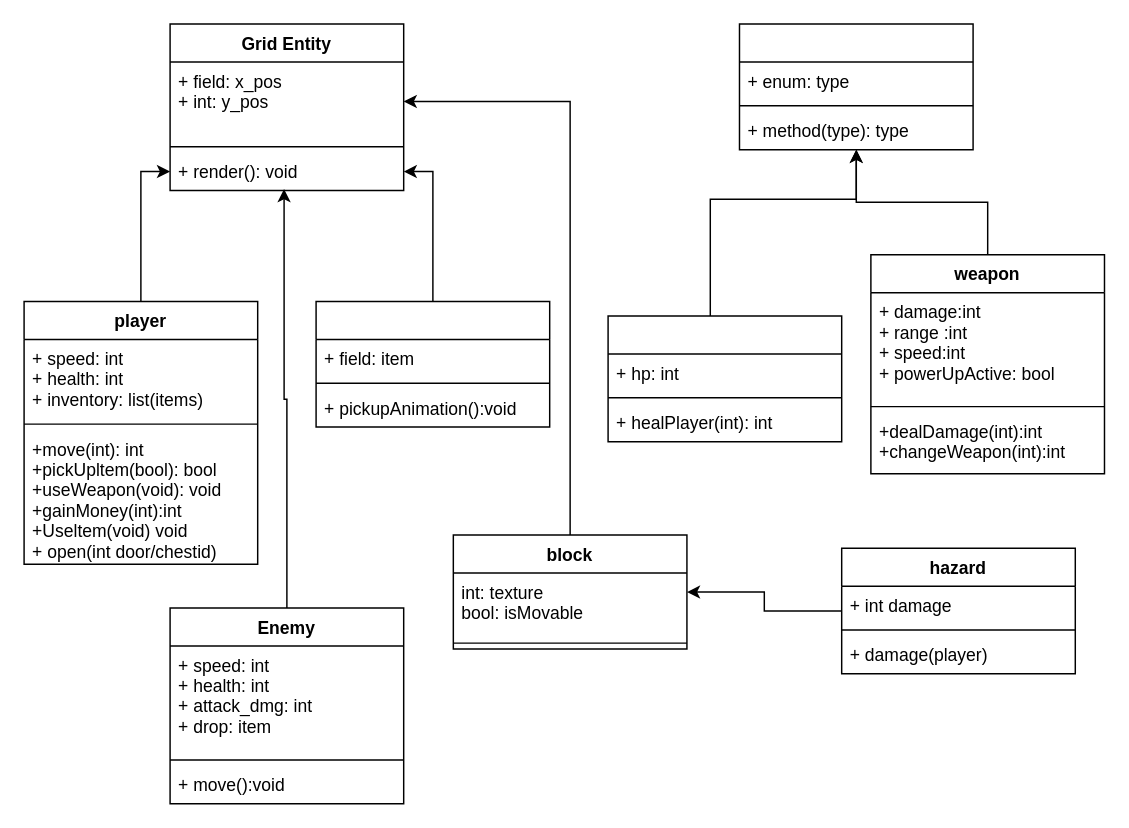
This 1129x828 diagram has some shape labels left out. The shapes that lost their labels are listed below. From the top down, each one's box as (x1, y1, x2, y2) in pixels, then its label:
(738, 23, 973, 150): Item
(315, 300, 550, 427): Pickupable
(607, 315, 842, 442): potion
